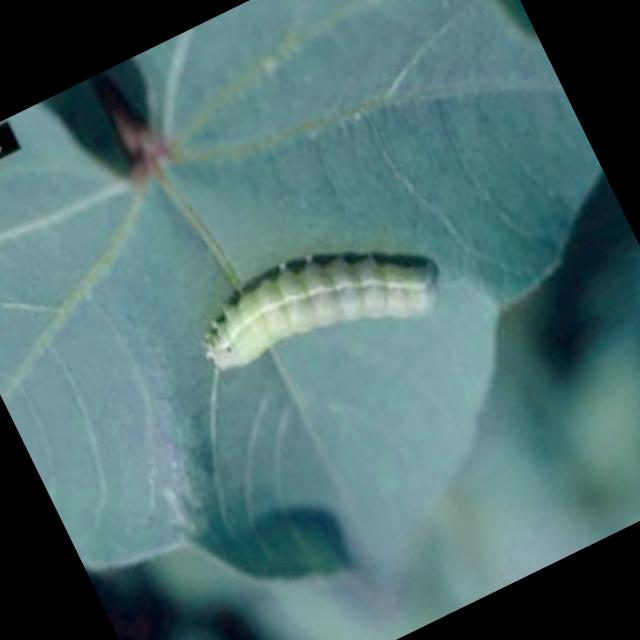Beet armyworm: (148, 174, 494, 462)
